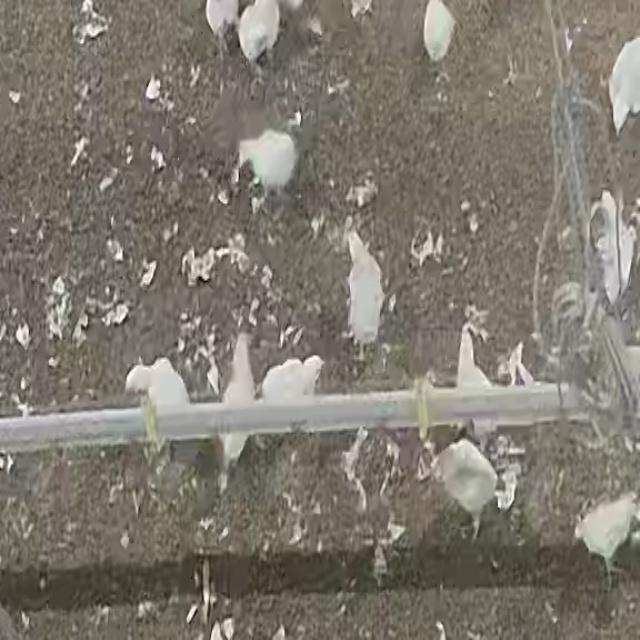chicken: (429, 436, 502, 545), (342, 229, 389, 362), (575, 495, 637, 584), (230, 128, 300, 204)
